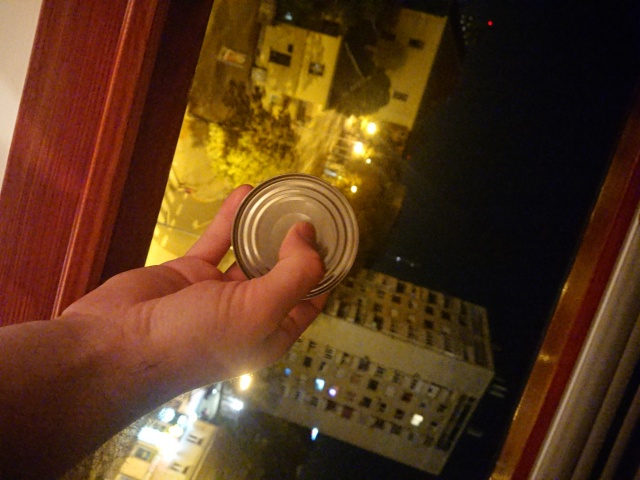Podravka Luncheon Meat 150g: (227, 170, 362, 305)
